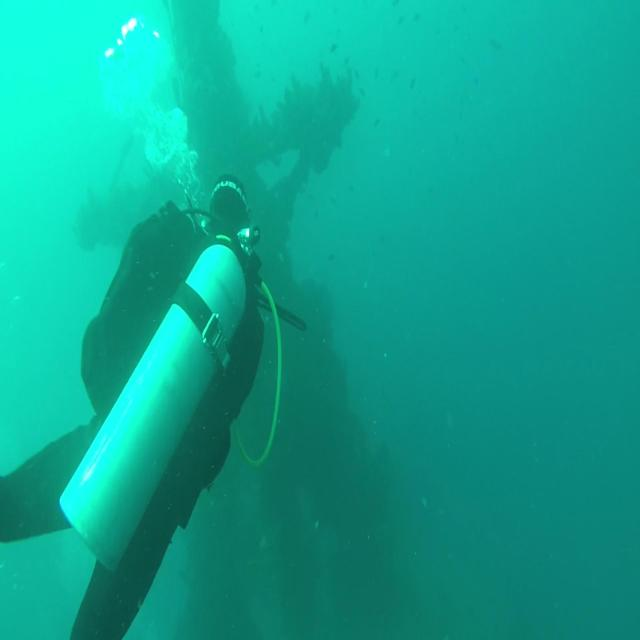human: (2, 171, 290, 638)
